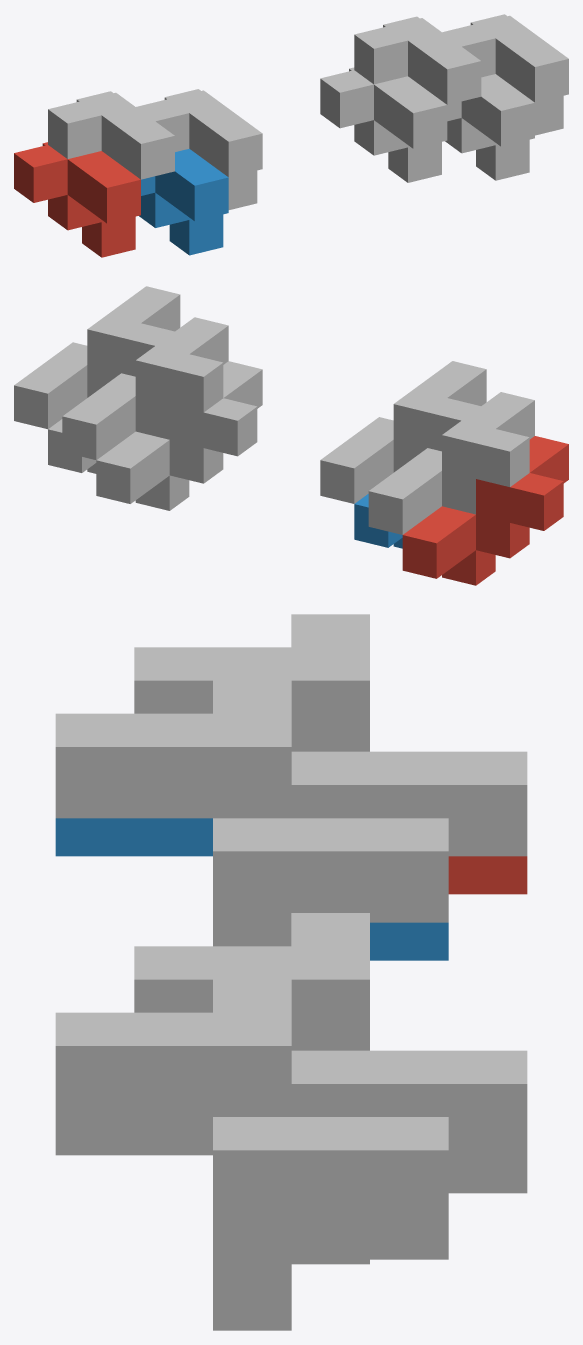
Rendered from tiling.obj.
The picture shows the model from 3 angles, top to bottom: view 1: azimuth 30°, elevation 25°; view 2: azimuth 150°, elevation 25°; view 3: azimuth 270°, elevation 25°; orthographic projection. The views are drawn at different scales.
Parts seen in each view (by area): view 1: copy_1_domain_5, copy_1_domain_1, copy_1_domain_7, copy_1_domain_3, copy_1_domain_4, copy_1_domain_8, copy_1_domain_2, copy_1_domain_6; view 2: copy_1_domain_5, copy_1_domain_7, copy_1_domain_1, copy_1_domain_3, copy_1_domain_4, copy_1_domain_8, copy_1_domain_6, copy_1_domain_2; view 3: copy_1_domain_8, copy_1_domain_4, copy_1_domain_3, copy_1_domain_7, copy_1_domain_6, copy_1_domain_2, copy_1_domain_5, copy_1_domain_1.
Boxes of the visible parts, <box> form: copy_1_domain_5: <box>320,67,447,182</box>; copy_1_domain_1: <box>14,142,140,257</box>; copy_1_domain_7: <box>354,16,481,104</box>; copy_1_domain_3: <box>48,91,174,179</box>; copy_1_domain_4: <box>136,89,262,209</box>; copy_1_domain_8: <box>442,14,568,135</box>; copy_1_domain_2: <box>139,148,228,255</box>; copy_1_domain_6: <box>445,74,534,180</box>; copy_1_domain_5: <box>96,361,262,510</box>; copy_1_domain_7: <box>62,317,228,460</box>; copy_1_domain_1: <box>402,436,568,585</box>; copy_1_domain_3: <box>368,392,534,534</box>; copy_1_domain_4: <box>320,361,486,503</box>; copy_1_domain_8: <box>14,286,180,429</box>; copy_1_domain_6: <box>48,419,96,473</box>; copy_1_domain_2: <box>354,494,402,548</box>; copy_1_domain_8: <box>55,979,448,1292</box>; copy_1_domain_4: <box>55,680,448,946</box>; copy_1_domain_3: <box>134,614,527,856</box>; copy_1_domain_7: <box>134,913,527,1155</box>; copy_1_domain_6: <box>55,1117,448,1330</box>; copy_1_domain_2: <box>55,818,448,960</box>; copy_1_domain_5: <box>291,1155,527,1264</box>; copy_1_domain_1: <box>448,856,527,894</box>.
Bounding box in the file's own units: 15 × 4 × 6.
